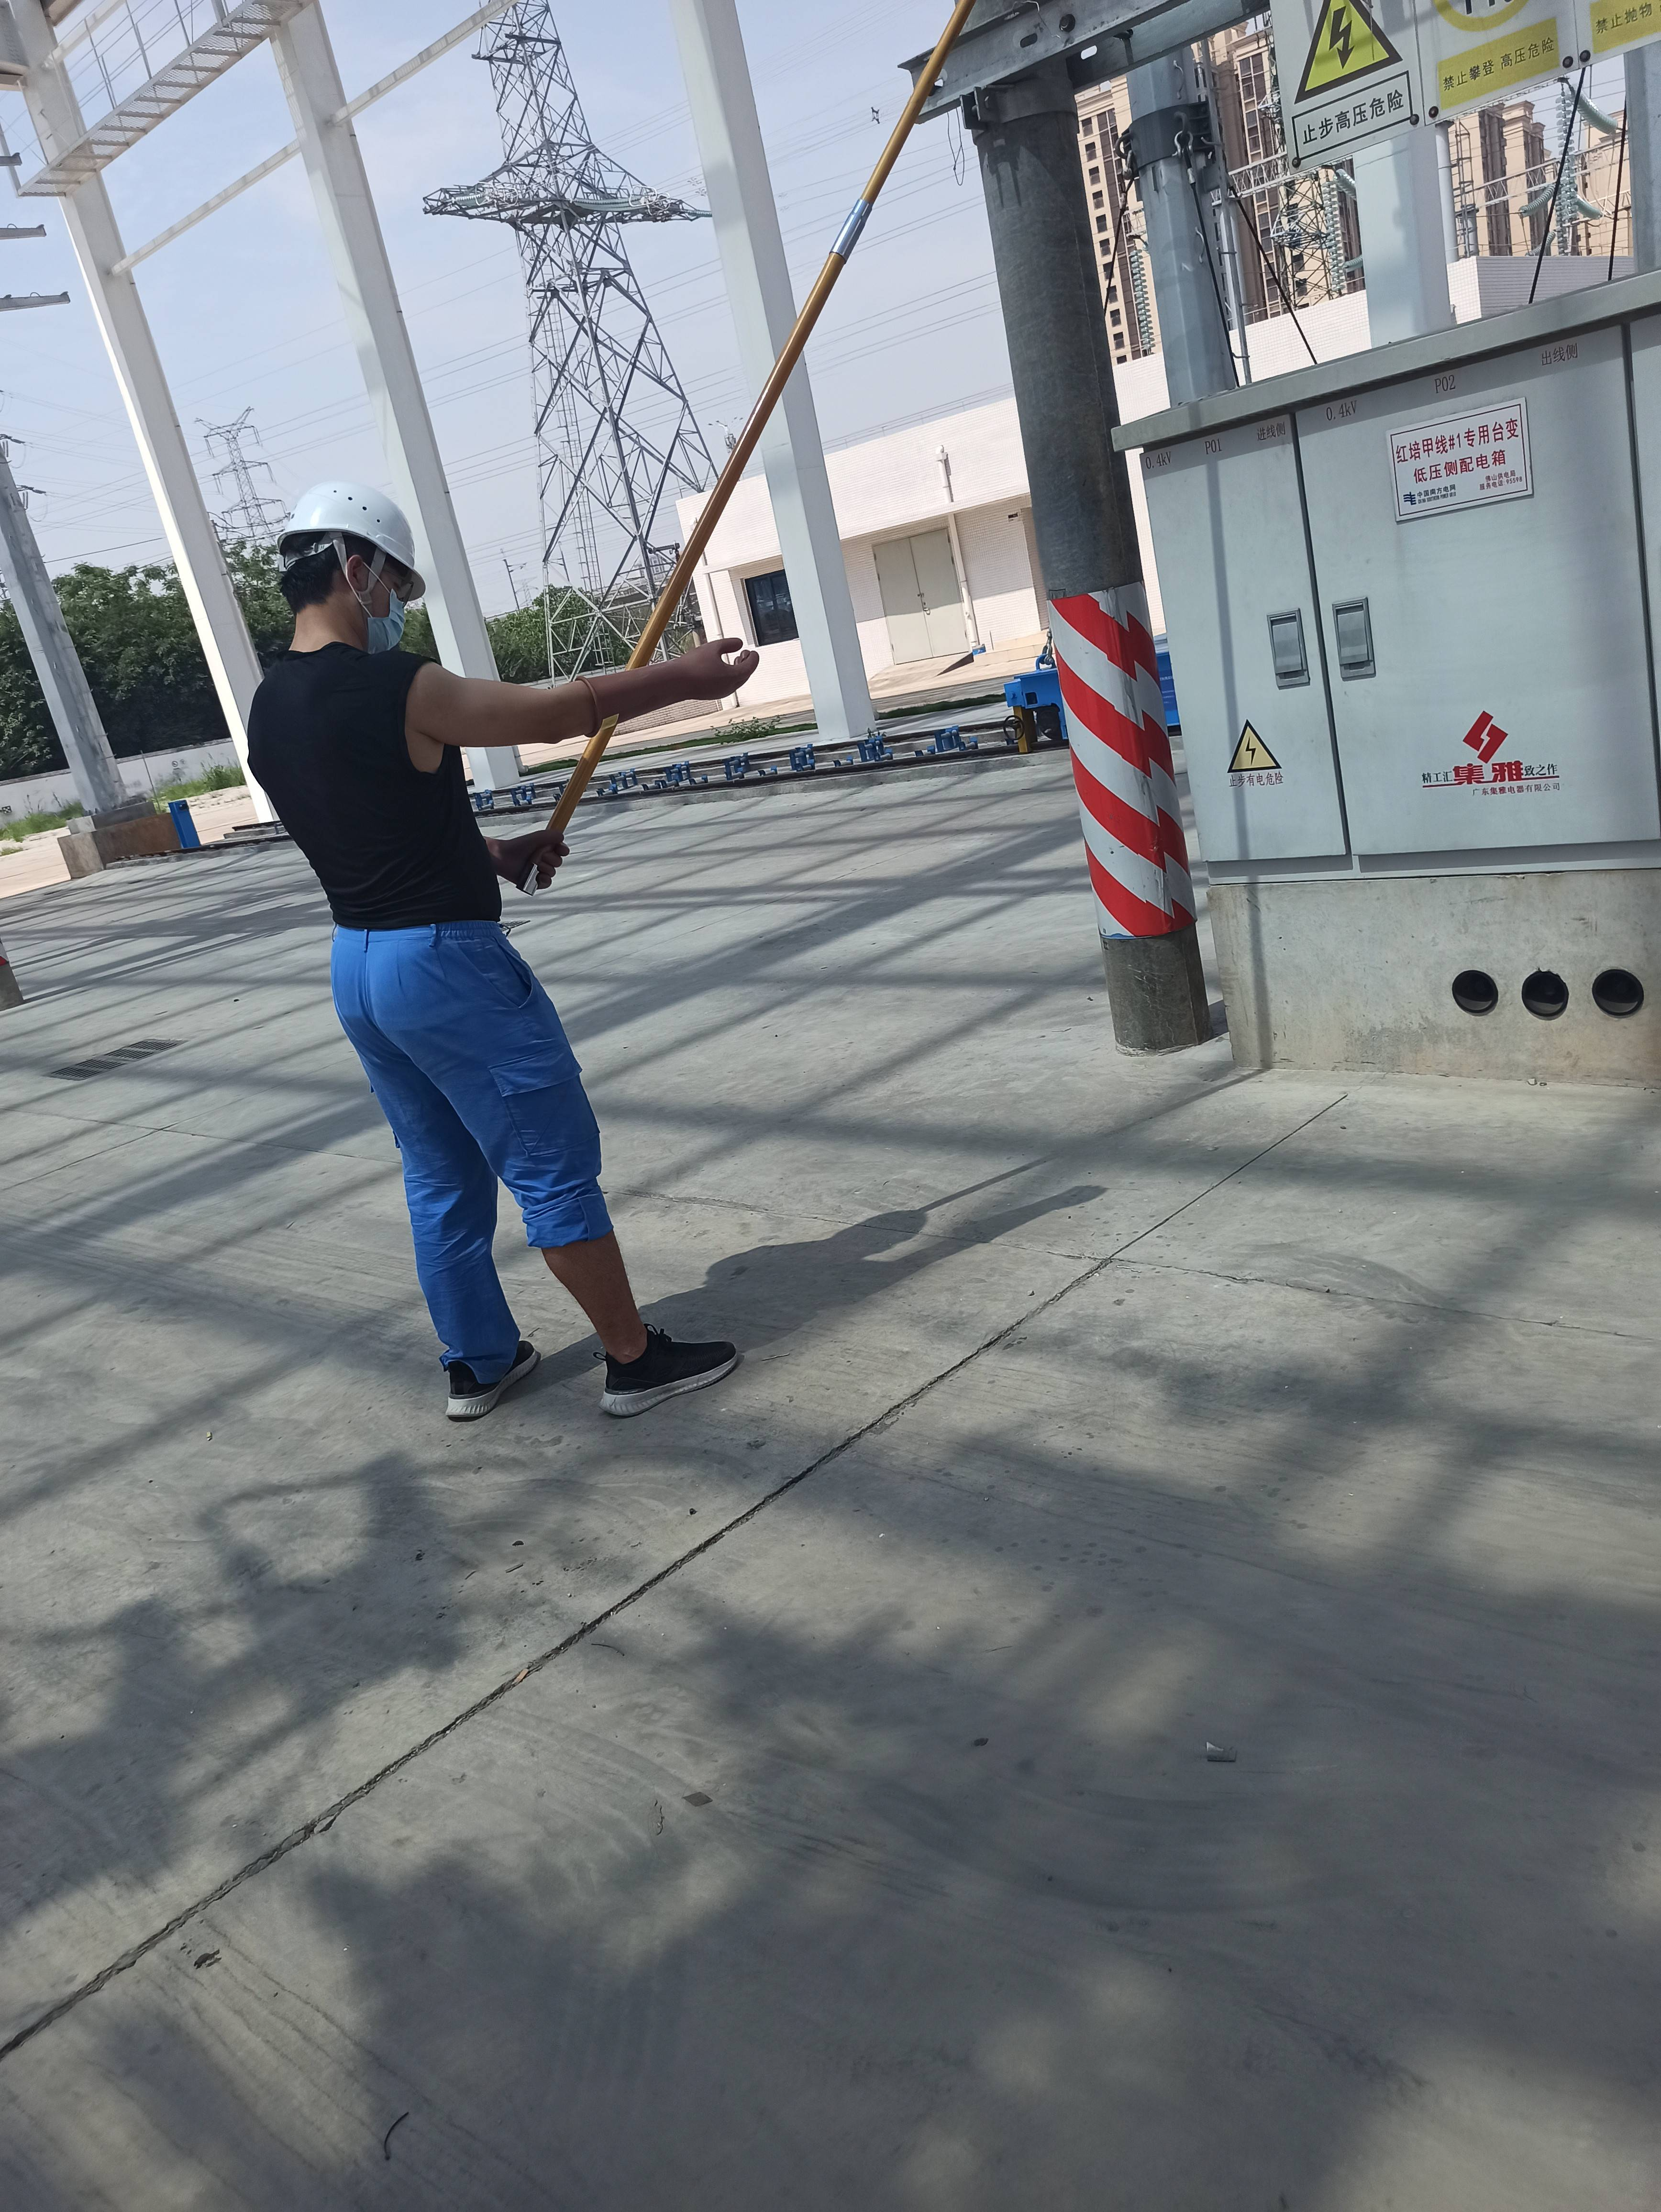downsuit: (307, 932, 633, 1362)
upcloth: (246, 652, 513, 932)
wrongbottom: (525, 1204, 661, 1382)
